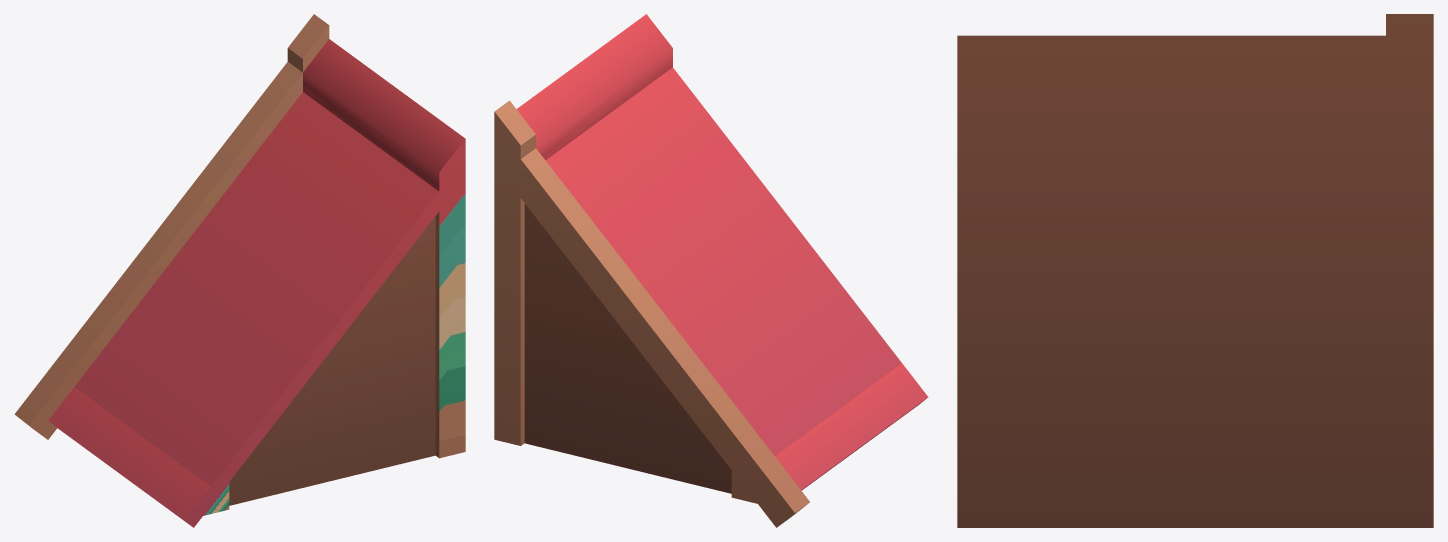
The model's file is kenney-fantasy-town-roof-high-left.glb.
The picture shows the model from 3 angles, left to right: view 1: azimuth 30°, elevation 25°; view 2: azimuth 150°, elevation 25°; view 3: azimuth 270°, elevation 25°; orthographic projection. The views are drawn at different scales.
Parts seen in each view (by area): view 1: roof-high-left; view 2: roof-high-left; view 3: roof-high-left.
Boxes of the visible parts, left/top/right/bottom form: roof-high-left: left=14, top=14, right=465, bottom=527; roof-high-left: left=494, top=14, right=928, bottom=527; roof-high-left: left=957, top=14, right=1433, bottom=527.
Size of the model in its own units: 1.14 by 1.26 by 1.
1 material, 1 textured.
